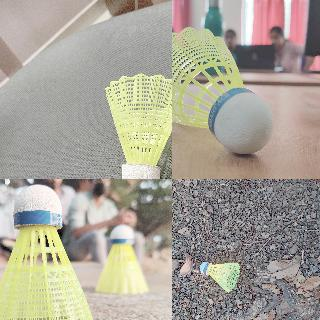shuttlecock: (0, 184, 97, 319), (172, 26, 274, 154), (105, 73, 171, 178), (96, 223, 150, 294), (198, 259, 240, 293)
